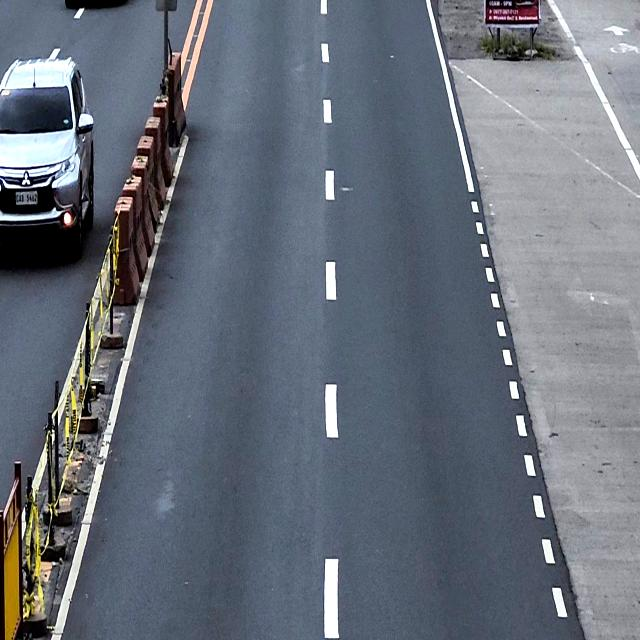Car: (0, 48, 95, 258)
License-Plate: (14, 188, 38, 206)
